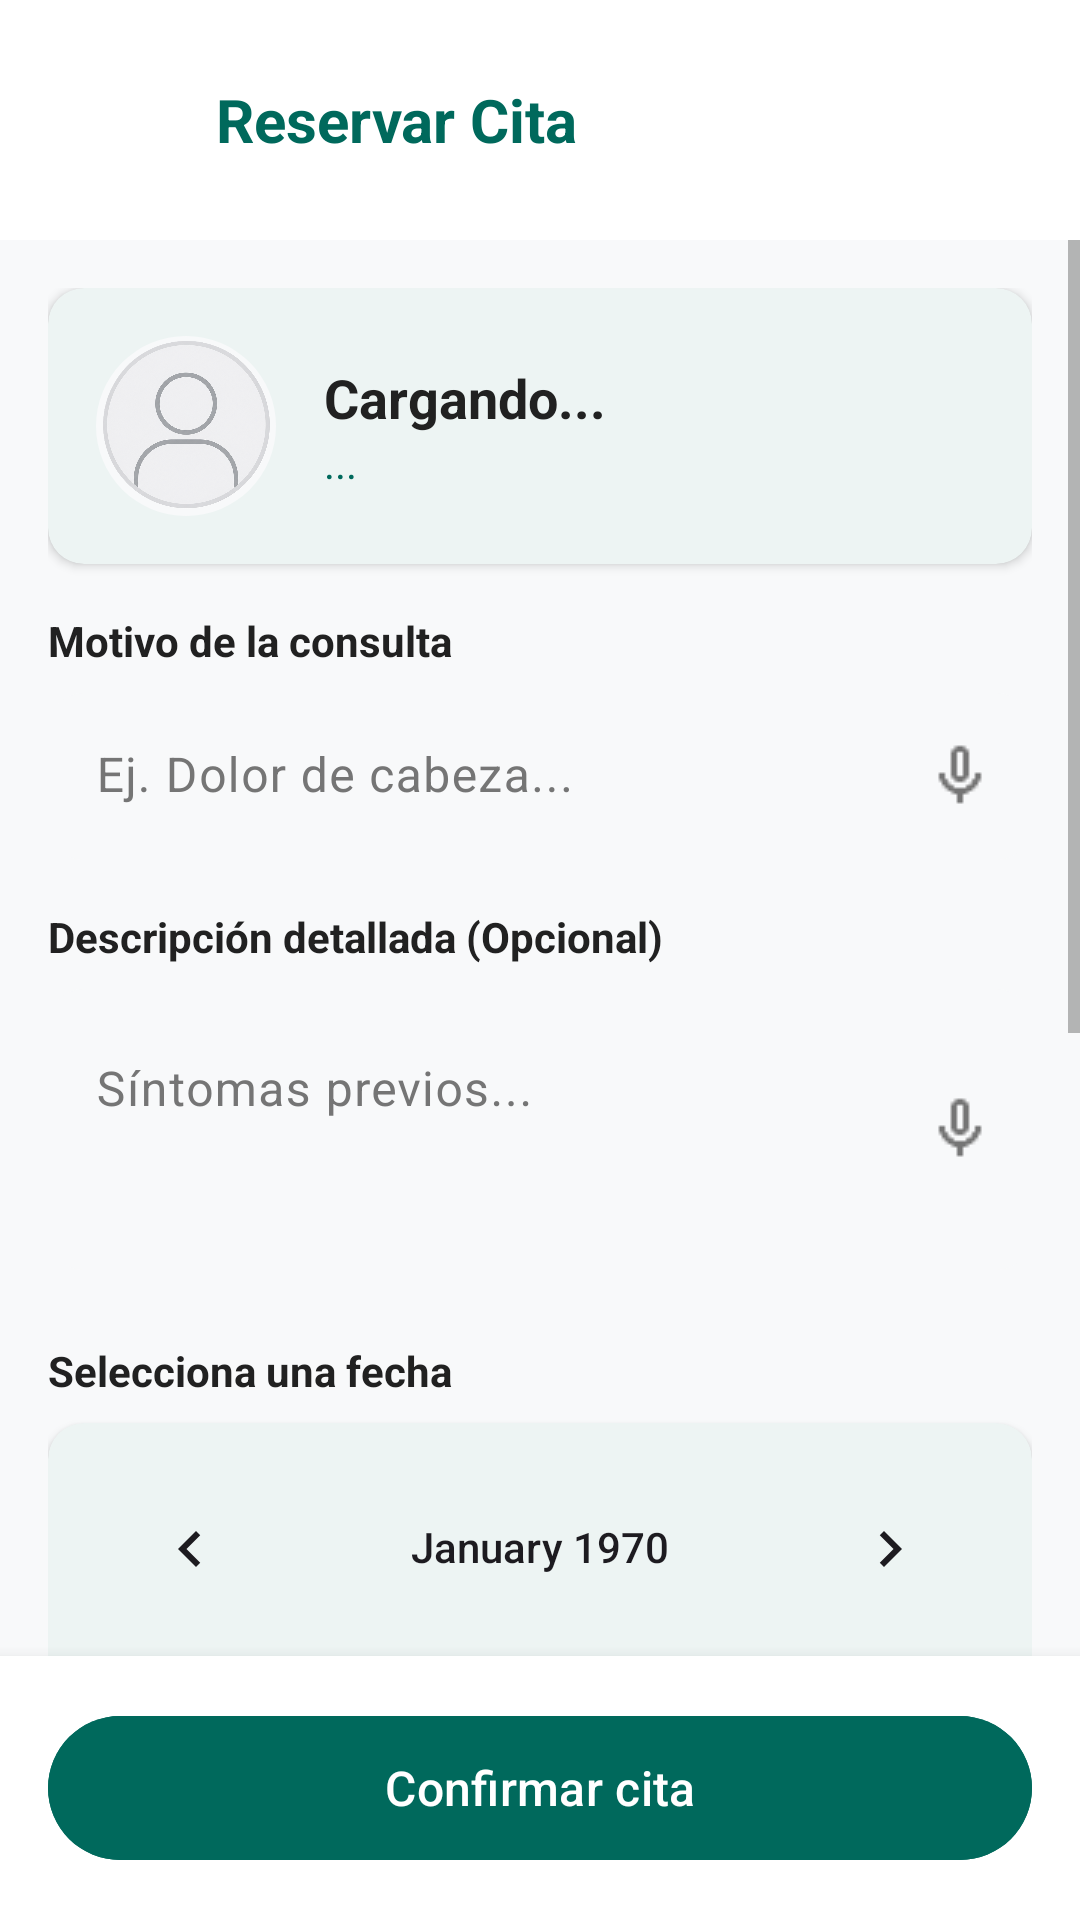

Icon click points for this 1080 × 1920 phone screenshot, format [x,y]:
user: [186,424]
